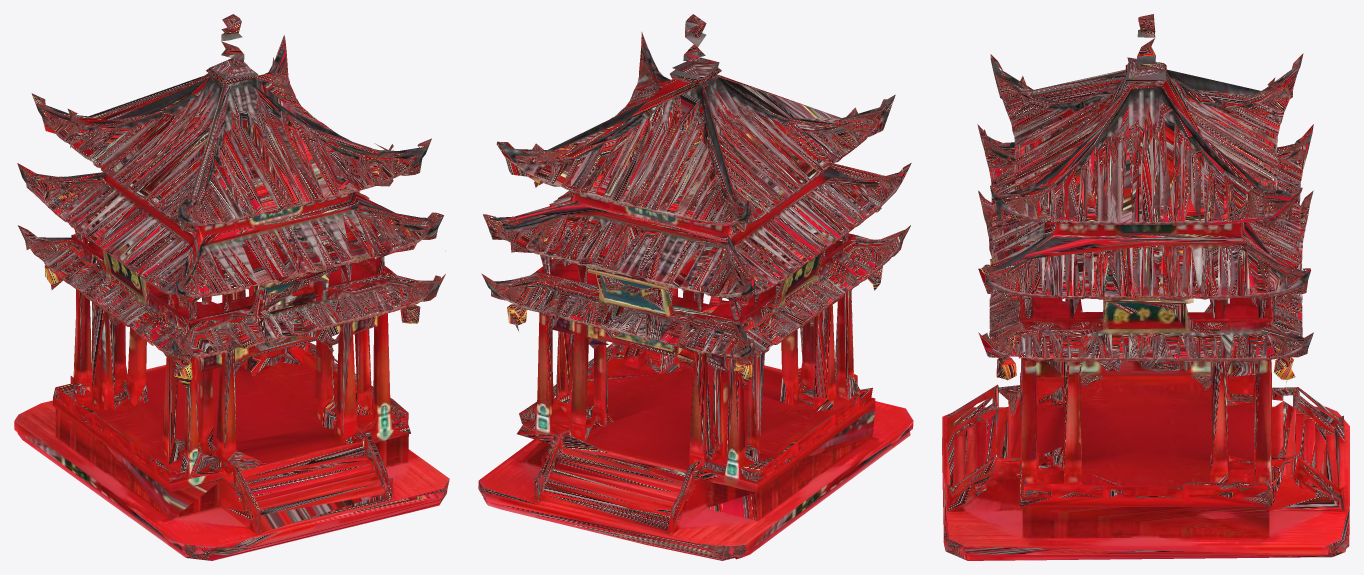
File: bq_library_pagoda.mid.glb
3 views of the same model, side by side, from view 1: azimuth 30°, elevation 25°; view 2: azimuth 150°, elevation 25°; view 3: azimuth 270°, elevation 25° (orthographic). The views are drawn at different scales.
Bounding box in the file's own units: 1.2 × 1.89 × 1.46.
Materials: 1 (1 with a texture image).
